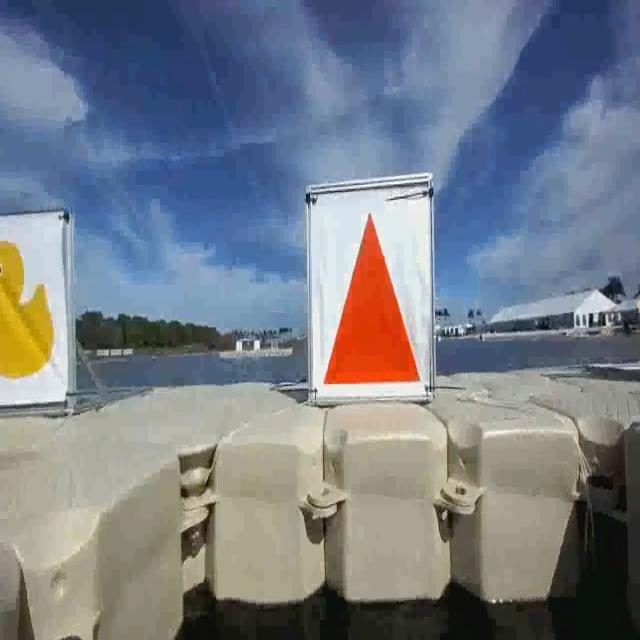red-dot: (311, 190, 425, 400)
yellow-duck: (0, 210, 68, 402)
